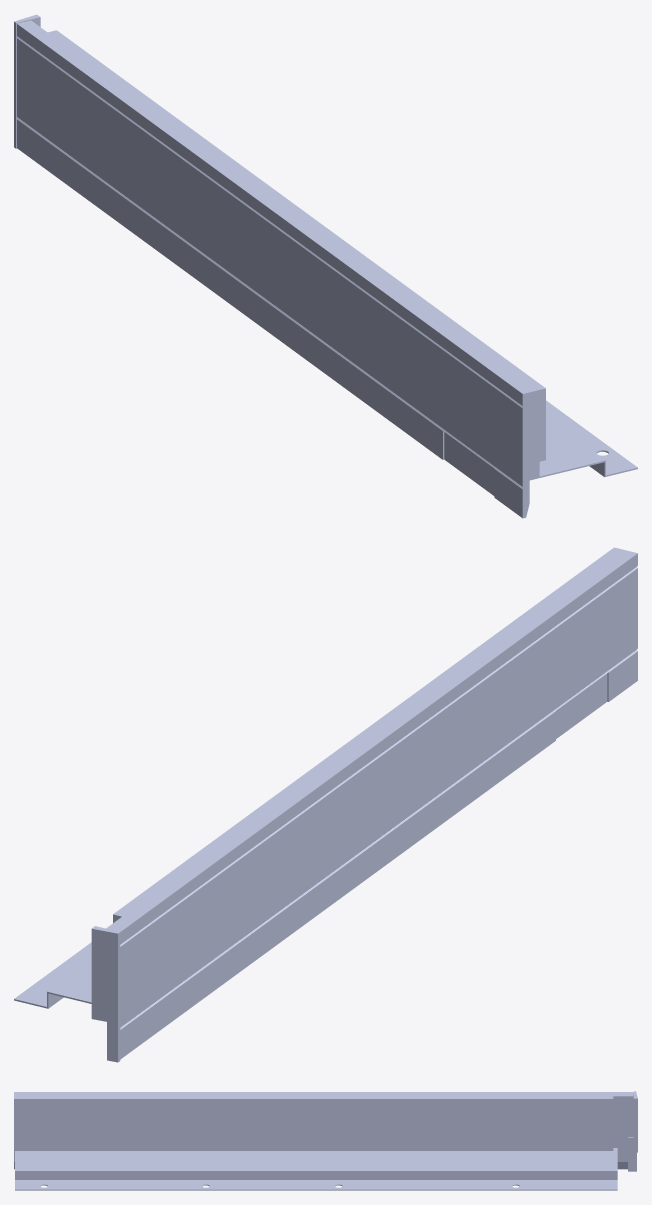
The model's file is lg-kava-N500-p.glb.
The picture shows the model from 3 angles, top to bottom: view 1: azimuth 30°, elevation 25°; view 2: azimuth 150°, elevation 25°; view 3: azimuth 270°, elevation 25°; orthographic projection. The views are drawn at different scales.
Parts seen in each view (by area): view 1: 40051516; view 2: 40051516; view 3: 40051516.
Part boxes in pixels (<box>): 40051516: <box>14,14,637,518</box>; 40051516: <box>14,547,637,1062</box>; 40051516: <box>14,1091,637,1190</box>.
Bounding box in the file's own units: 0.0653 × 0.0672 × 0.4935.
